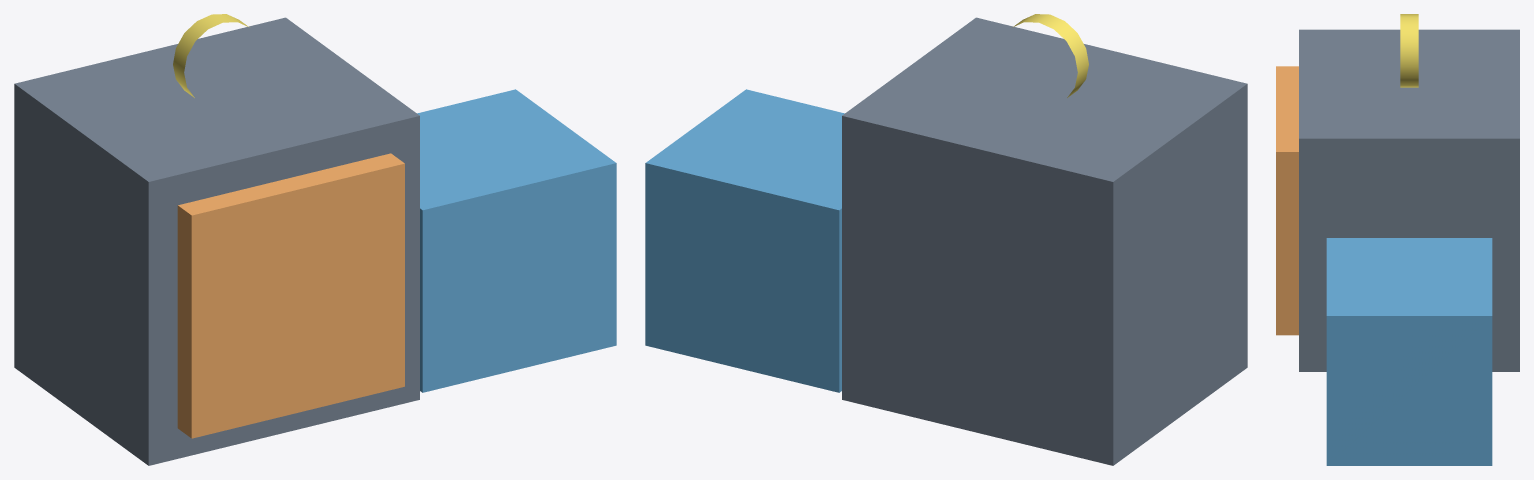
Rendered from heat_treatment_metallurgy.glb.
The picture shows the model from 3 angles, left to right: view 1: azimuth 30°, elevation 25°; view 2: azimuth 150°, elevation 25°; view 3: azimuth 270°, elevation 25°; orthographic projection. The views are drawn at different scales.
Parts seen in each view (by area): view 1: MuffleFurnaceChassis, FurnaceInsulatedDoor, QuenchingOilTank, TemperatureControlDial; view 2: MuffleFurnaceChassis, QuenchingOilTank, TemperatureControlDial; view 3: MuffleFurnaceChassis, QuenchingOilTank, FurnaceInsulatedDoor, TemperatureControlDial.
Boxes of the visible parts, left/top/right/bottom form: MuffleFurnaceChassis: left=14, top=17, right=419, bottom=465; FurnaceInsulatedDoor: left=177, top=153, right=404, bottom=438; QuenchingOilTank: left=417, top=89, right=616, bottom=392; TemperatureControlDial: left=173, top=14, right=249, bottom=97; MuffleFurnaceChassis: left=842, top=17, right=1247, bottom=465; QuenchingOilTank: left=645, top=89, right=844, bottom=392; TemperatureControlDial: left=1012, top=14, right=1088, bottom=97; MuffleFurnaceChassis: left=1299, top=29, right=1519, bottom=371; QuenchingOilTank: left=1326, top=238, right=1492, bottom=465; FurnaceInsulatedDoor: left=1276, top=66, right=1298, bottom=335; TemperatureControlDial: left=1400, top=14, right=1418, bottom=87.
Bounding box in the file's own units: 2.5 × 1.85 × 1.33.
